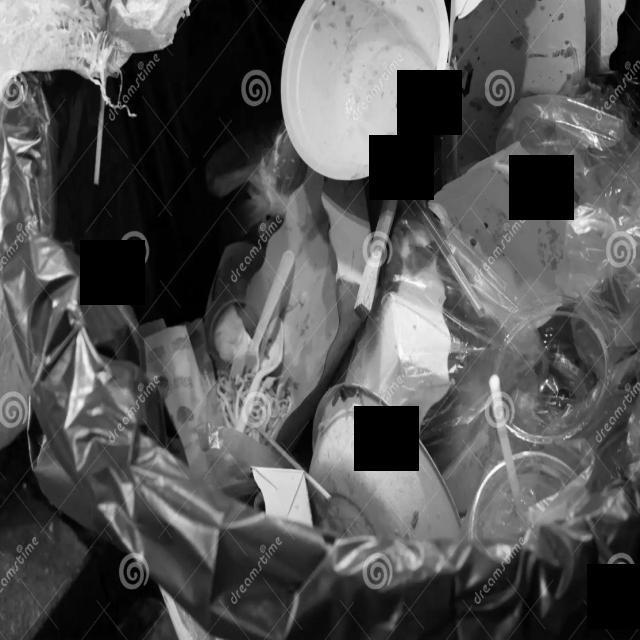Disposable: (499, 309, 610, 444), (231, 249, 295, 432), (469, 453, 576, 543), (205, 241, 266, 358)
Garbage: (132, 0, 640, 537)
Plastic_Bag: (420, 147, 569, 513), (498, 96, 640, 348), (346, 210, 451, 433), (206, 124, 306, 233), (200, 423, 282, 496)
Plastic_Container: (281, 0, 449, 180)
Plastic_Straw: (402, 177, 484, 316), (489, 375, 521, 511)
